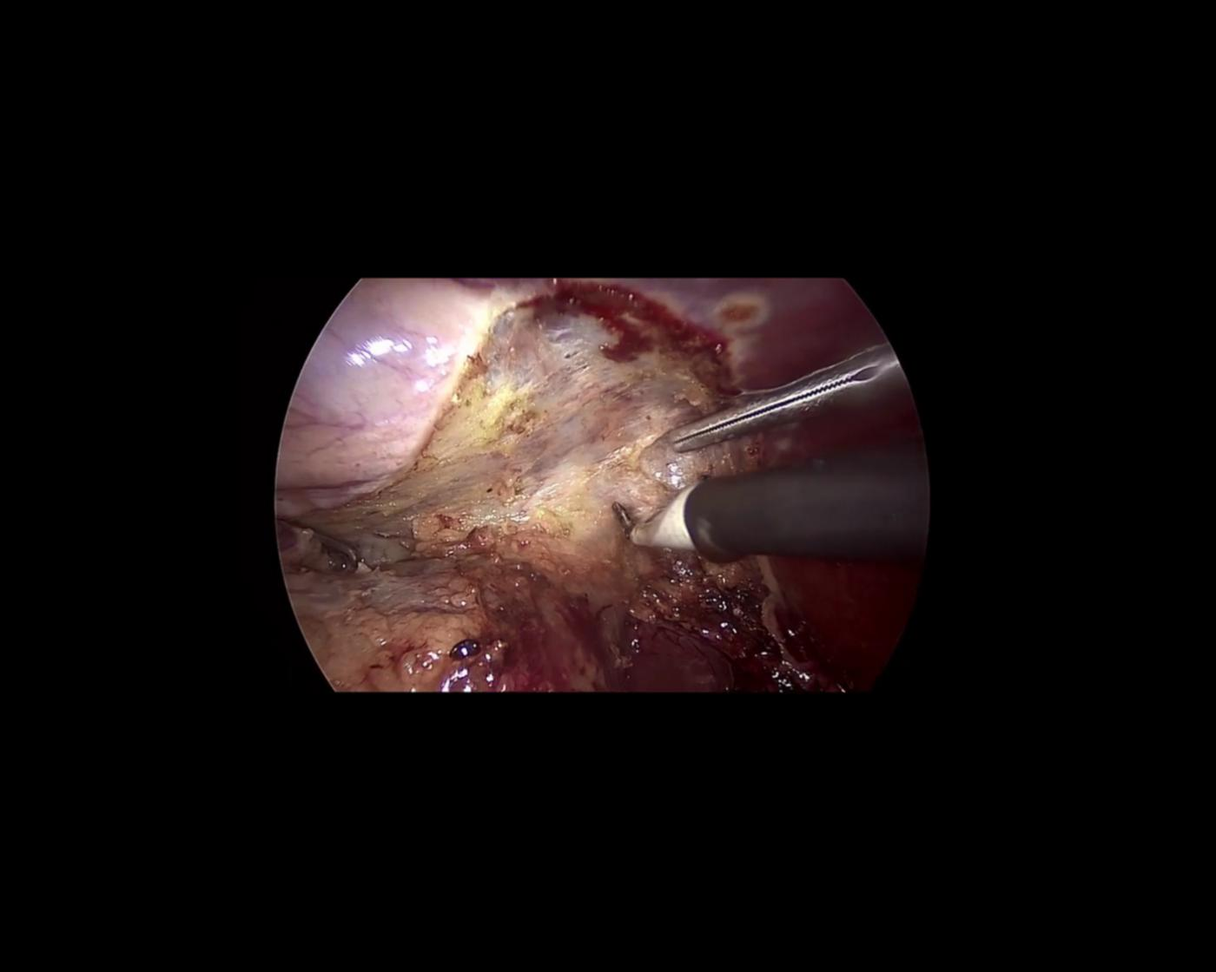Cautery: (609, 448, 936, 600)
Forceps: (654, 344, 910, 458), (263, 517, 368, 589)
Gallbladder: (252, 264, 555, 721)
Liver: (625, 204, 992, 712)
